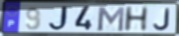4: (74, 5, 96, 33)
9: (25, 6, 44, 31)
H: (122, 6, 150, 33)
J: (48, 5, 72, 32), (153, 8, 171, 32)
M: (96, 6, 126, 33)
